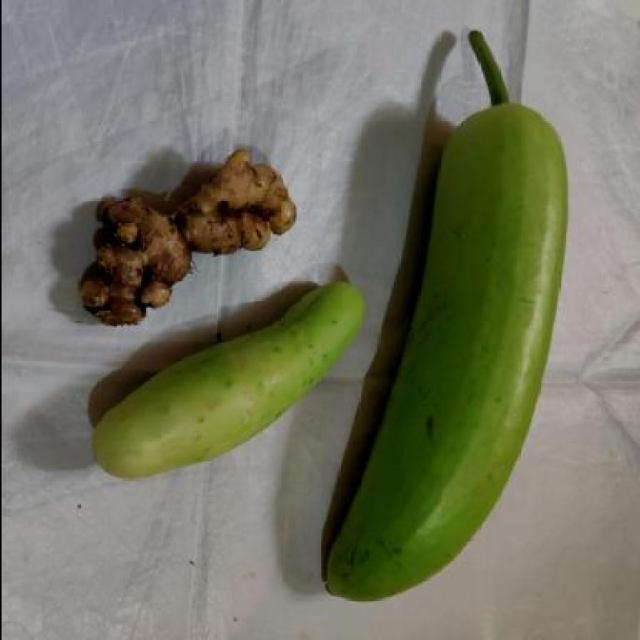Calabash: (389, 44, 566, 600)
Ginger: (82, 156, 278, 316)
cucumber: (110, 318, 358, 469)
